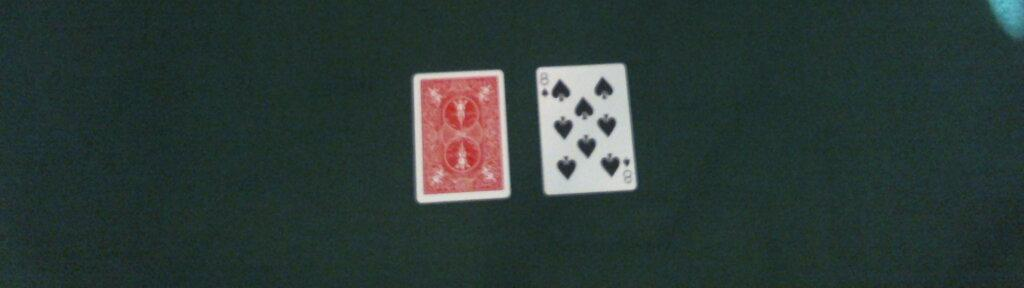back: (410, 70, 512, 204)
eight: (533, 63, 638, 196)
